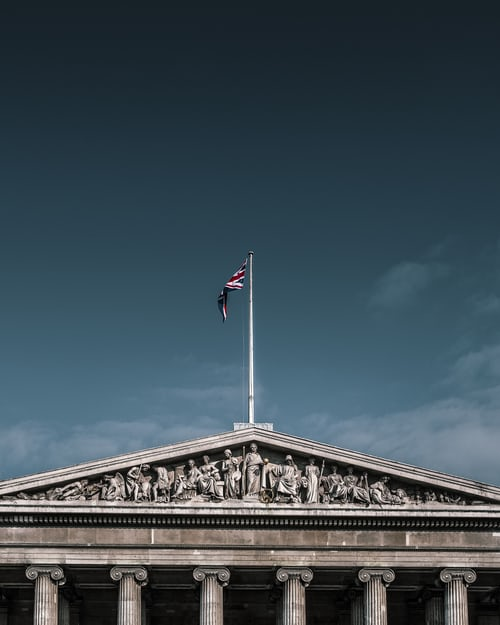Flag: (217, 256, 247, 324)
